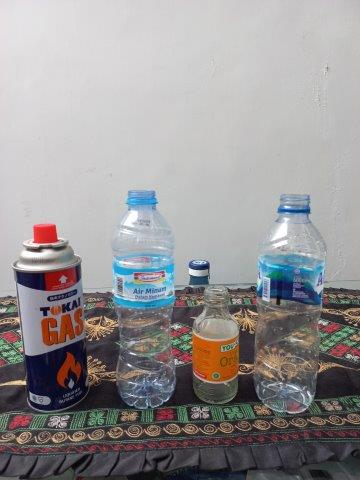botolkaca: (193, 285, 240, 404)
botolplastik: (257, 195, 328, 413), (112, 189, 176, 412)
kaleng: (11, 224, 89, 416)
